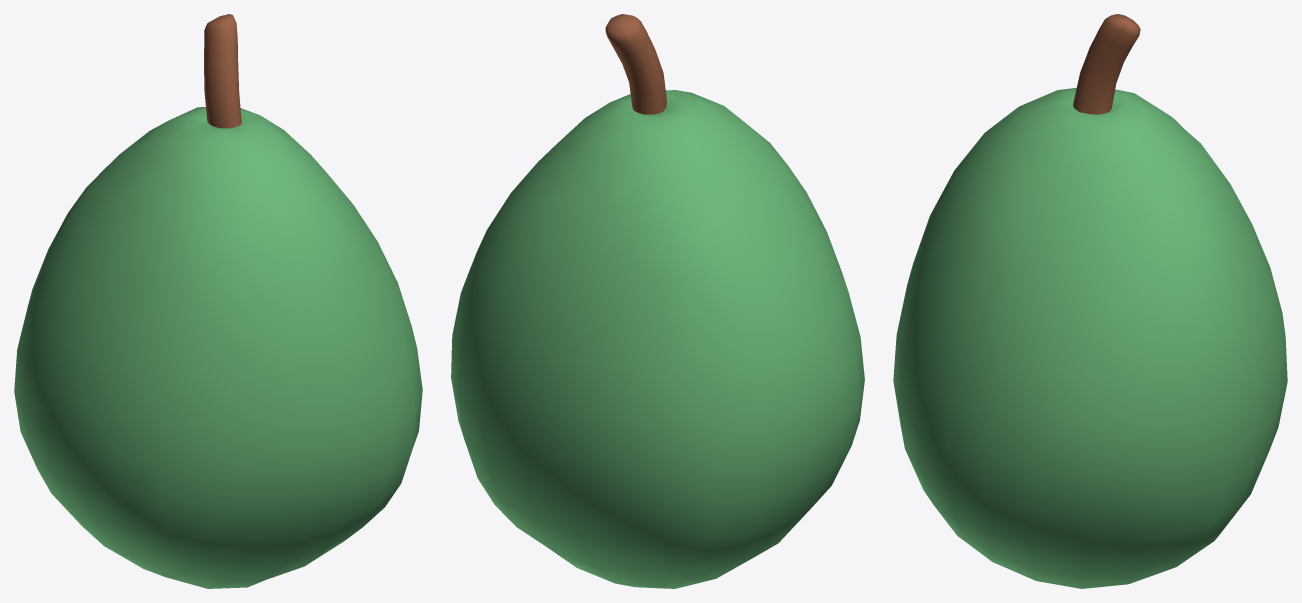
Rendered from Guava_03.dae.
3 views of the same model, side by side, from view 1: azimuth 30°, elevation 25°; view 2: azimuth 150°, elevation 25°; view 3: azimuth 270°, elevation 25° (orthographic). The views are drawn at different scales.
Visible parts, largest first — view 1: Guava_03_LOD0; view 2: Guava_03_LOD0; view 3: Guava_03_LOD0.
Part boxes in pixels (box(x1,y1,x2,y2)): Guava_03_LOD0: box(14, 14, 422, 588); Guava_03_LOD0: box(451, 14, 864, 588); Guava_03_LOD0: box(893, 14, 1287, 588).
Size of what is drawn, in the model's own units: 3.6 by 3.35 by 5.31.
